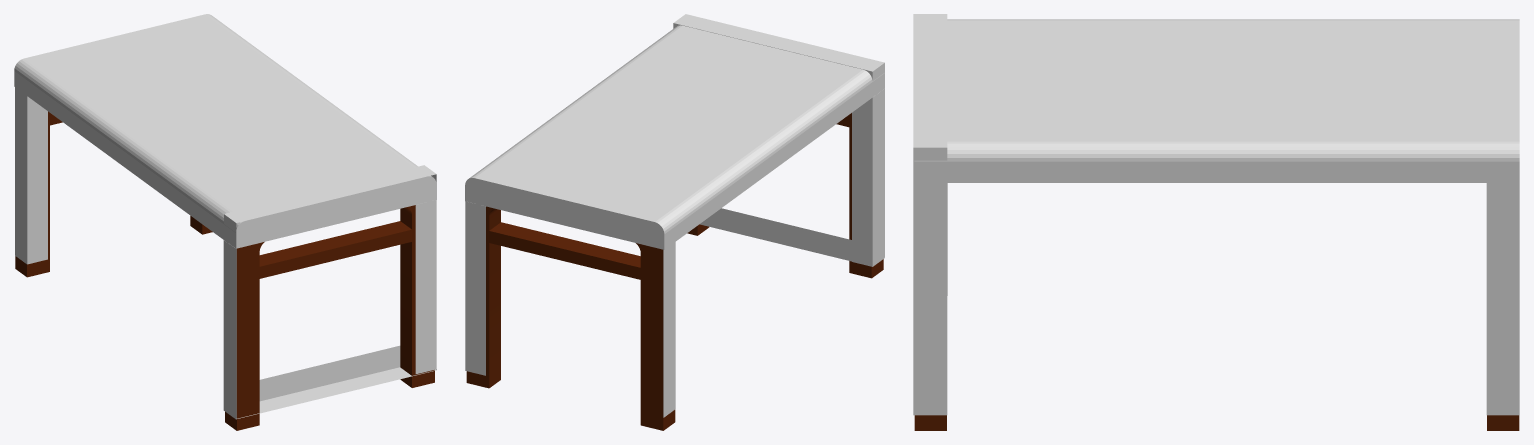
Rendered from KAGU-007.fbx.
3 views of the same model, side by side, from view 1: azimuth 30°, elevation 25°; view 2: azimuth 150°, elevation 25°; view 3: azimuth 270°, elevation 25° (orthographic). The views are drawn at different scales.
Visible parts, largest first — view 1: Cube, 立方体.001; view 2: Cube, 立方体.001; view 3: Cube, 立方体.001.
Part boxes in pixels (<box>): Cube: <box>14,14,436,419</box>; 立方体.001: <box>15,111,434,430</box>; Cube: <box>465,14,884,417</box>; 立方体.001: <box>466,113,883,430</box>; Cube: <box>913,14,1519,415</box>; 立方体.001: <box>914,415,1519,430</box>.
Bounding box in the file's own units: 209 × 207 × 401.
